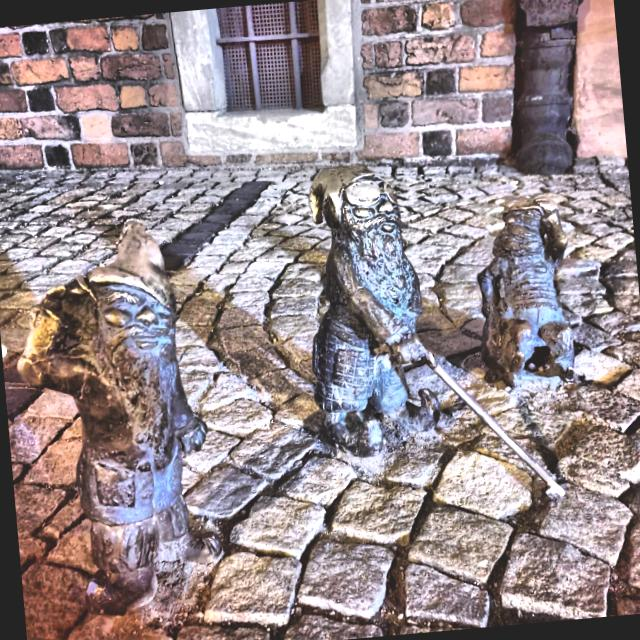Gluchak: (18, 220, 226, 616)
Slepak: (308, 166, 567, 500)
W-Skers: (476, 196, 577, 389)
